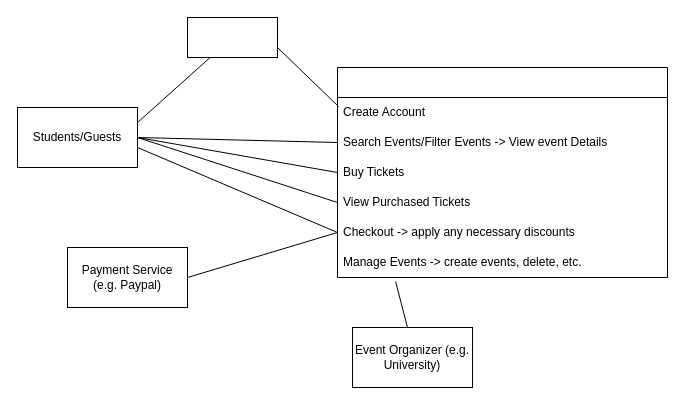
Some shapes in this 685 by 405 pixel diagram are drawn without their labels. Each missing label, with the box of its shape:
Clemson Ticketing System: (336, 66, 668, 278)
New Customer: (186, 16, 278, 58)
